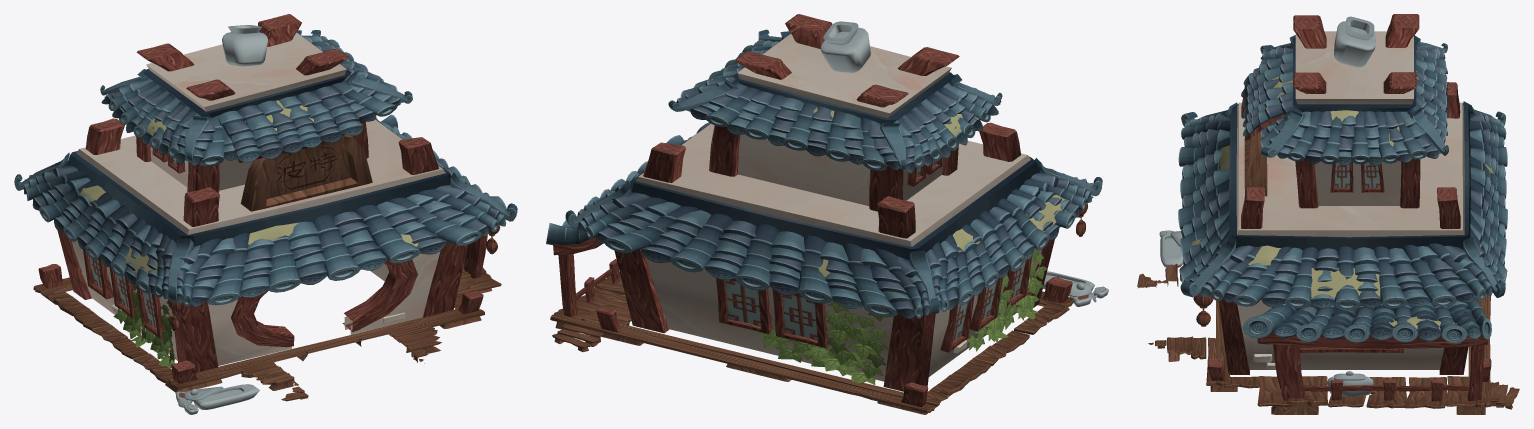
File: potters-residence.glb
3 views of the same model, side by side, from view 1: azimuth 30°, elevation 25°; view 2: azimuth 150°, elevation 25°; view 3: azimuth 270°, elevation 25° (orthographic). The views are drawn at different scales.
Parts seen in each view (by area): view 1: TiledLoft, TimberHouse, Threshold, ClimbingIvy; view 2: TiledLoft, TimberHouse, Threshold, ClimbingIvy; view 3: TiledLoft, TimberHouse, Threshold, ClimbingIvy.
Boxes of the visible parts, bbox=[...] form: TiledLoft: bbox=[14, 14, 517, 306]; TimberHouse: bbox=[38, 148, 500, 414]; Threshold: bbox=[33, 259, 501, 401]; ClimbingIvy: bbox=[78, 97, 451, 368]; TiledLoft: bbox=[546, 14, 1102, 319]; TimberHouse: bbox=[558, 157, 1108, 406]; Threshold: bbox=[550, 272, 1074, 414]; ClimbingIvy: bbox=[757, 107, 1066, 384]; TiledLoft: bbox=[1178, 14, 1507, 348]; TimberHouse: bbox=[1159, 161, 1491, 401]; Threshold: bbox=[1137, 263, 1519, 414]; ClimbingIvy: bbox=[1188, 70, 1493, 329].
Bounding box in the file's own units: 16.17 × 11.87 × 14.06.
Materials: 2 (2 with a texture image).
